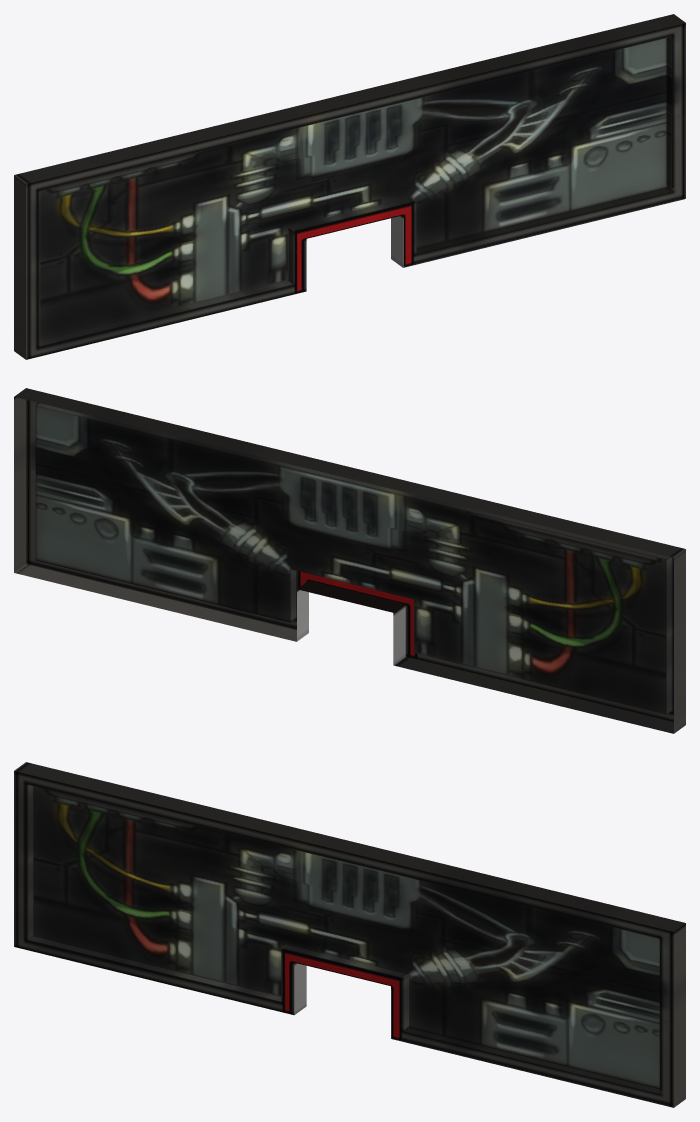
Rendered from DUCK_CENTER.fbx.
3 renders of one model, top to bottom at view 1: azimuth 30°, elevation 25°; view 2: azimuth 150°, elevation 25°; view 3: azimuth 330°, elevation 25°, orthographic.
Visible parts, largest first — view 1: wall2; view 2: wall2; view 3: wall2.
Boxes of the visible parts, <box> form: wall2: <box>14,14,685,359</box>; wall2: <box>14,388,685,733</box>; wall2: <box>14,762,685,1107</box>.
Bounding box in the file's own units: 40.08 × 10.22 × 1.27.
Materials: 1 (1 with a texture image).
